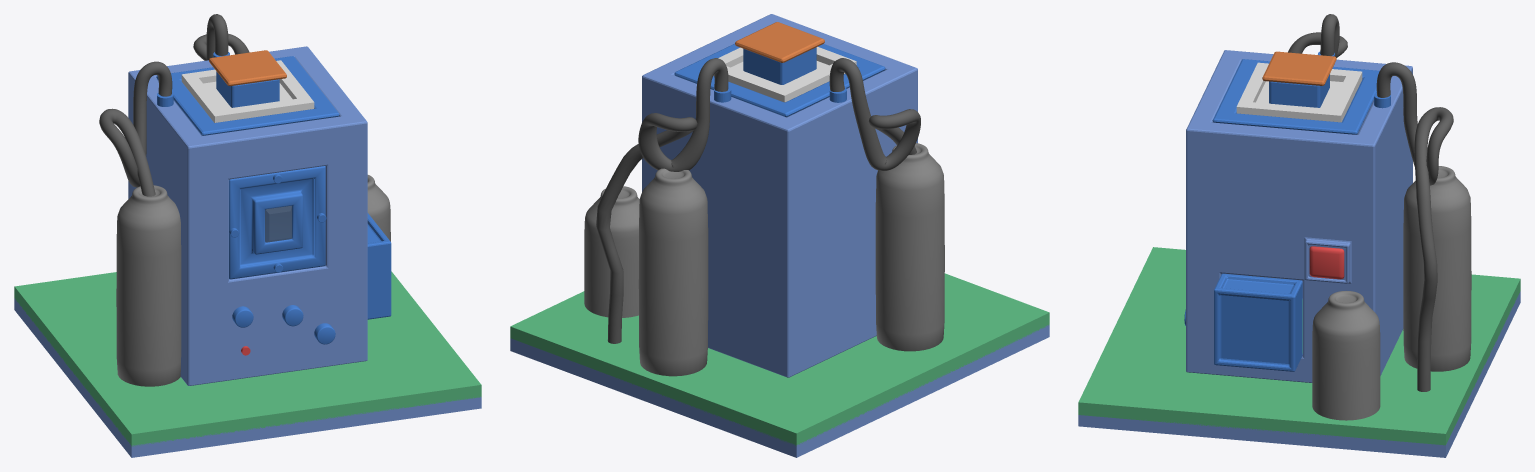
Rendered from fuel-energy-3d-animated-icon-714049507018.glb.
3 renders of one model, left to right at view 1: azimuth 30°, elevation 25°; view 2: azimuth 150°, elevation 25°; view 3: azimuth 270°, elevation 25°, orthographic. The views are drawn at different scales.
Parts seen in each view (by area): view 1: body, land, tube, cable.002, cable, button, tube.002, glass; view 2: body, land, tube.001, tube, cable, tube.002, cable.002; view 3: body, land, tube.001, tube.002, cable, cable.002, button.
Part boxes in pixels (x1,y1,x2,y2): body: [128, 46, 391, 385]; land: [14, 271, 481, 457]; tube: [116, 185, 181, 386]; cable.002: [99, 61, 172, 196]; cable: [193, 14, 249, 60]; button: [232, 305, 335, 355]; tube.002: [367, 175, 390, 241]; glass: [265, 206, 291, 242]; body: [642, 14, 917, 377]; land: [510, 273, 1049, 457]; tube.001: [638, 168, 708, 376]; tube: [875, 143, 944, 351]; cable: [596, 58, 728, 343]; tube.002: [584, 186, 639, 317]; cable.002: [829, 58, 920, 171]; body: [1186, 50, 1412, 382]; land: [1078, 247, 1520, 457]; tube.001: [1403, 166, 1471, 371]; tube.002: [1312, 290, 1380, 420]; cable: [1376, 62, 1453, 391]; cable.002: [1288, 14, 1347, 57]; button: [1184, 246, 1344, 325].
Size of the model in its own units: 1.96 by 1.52 by 1.96.
